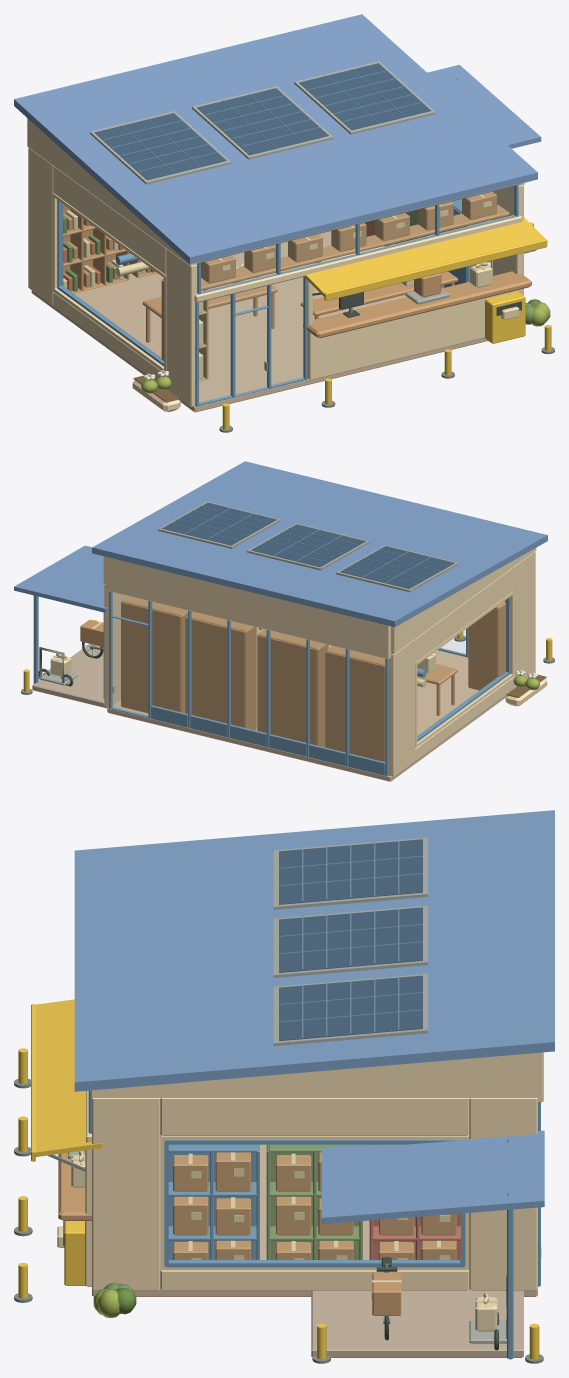
3 renders of one model, top to bottom at view 1: azimuth 30°, elevation 25°; view 2: azimuth 150°, elevation 25°; view 3: azimuth 270°, elevation 25°, orthographic. The views are drawn at different scales.
Parts seen in each view (by area): view 1: R 蓝色单坡屋面, S 站内楼面, R 光伏电池面, A 墙体, A 柜台前墙, I 包裹箱, R 黄色服务窗遮棚, I 收件服务台, R 光伏边框, R 装卸口雨棚, A 窗上墙, A 门窗过梁 (+18 smaller); view 2: R 蓝色单坡屋面, I 货架背板, A 后高墙, R 光伏电池面, A 墙体, A 后分拣窗, S 站内楼面, R 装卸口雨棚, I 格柜竖板, A 窗上墙, A 斜屋顶侧墙, S 装卸小平台 (+10 smaller); view 3: R 蓝色单坡屋面, R 光伏电池面, A 墙体, R 装卸口雨棚, I 包裹箱, A 斜屋顶侧墙, A 窗上墙, S 装卸小平台, R 黄色服务窗遮棚, A 窗下墙, R 光伏边框, I 格柜层板 (+16 smaller).
Part boxes in pixels (x1,y1,x2,y2): R 蓝色单坡屋面: (14,14,537,264); S 站内楼面: (31,231,487,412); R 光伏电池面: (94,63,431,180); A 墙体: (28,147,523,406); A 柜台前墙: (307,289,520,380); I 包裹箱: (199,191,496,378); R 黄色服务窗遮棚: (304,217,544,296); I 收件服务台: (303,271,531,338); R 光伏边框: (90,61,435,184); R 装卸口雨棚: (427,65,541,148); A 窗上墙: (53,166,492,274); A 门窗过梁: (194,215,522,302); R 蓝色单坡屋面: (92,461,547,627); I 货架背板: (121,602,498,761); A 后高墙: (105,557,390,659); R 光伏电池面: (162,502,454,588); A 墙体: (104,551,535,776); A 后分拣窗: (109,591,388,776); S 站内楼面: (107,627,506,781); R 装卸口雨棚: (14,545,107,612); I 格柜竖板: (121,601,505,747); A 窗上墙: (415,567,513,662); A 斜屋顶侧墙: (103,548,536,654); S 装卸小平台: (32,644,107,708); R 蓝色单坡屋面: (74,810,554,1091); R 光伏电池面: (279,839,422,1040); A 墙体: (92,1098,537,1290); R 装卸口雨棚: (321,1130,544,1223); I 包裹箱: (173,1152,456,1315); A 斜屋顶侧墙: (92,1053,537,1097); A 窗上墙: (160,1098,469,1135); S 装卸小平台: (311,1289,523,1357); R 黄色服务窗遮棚: (33,999,101,1157); A 窗下墙: (160,1270,469,1290); R 光伏边框: (273,837,427,1045); I 格柜层板: (168,1144,460,1240).
Size of the model in its own units: 21.16 by 8.45 by 15.77.
